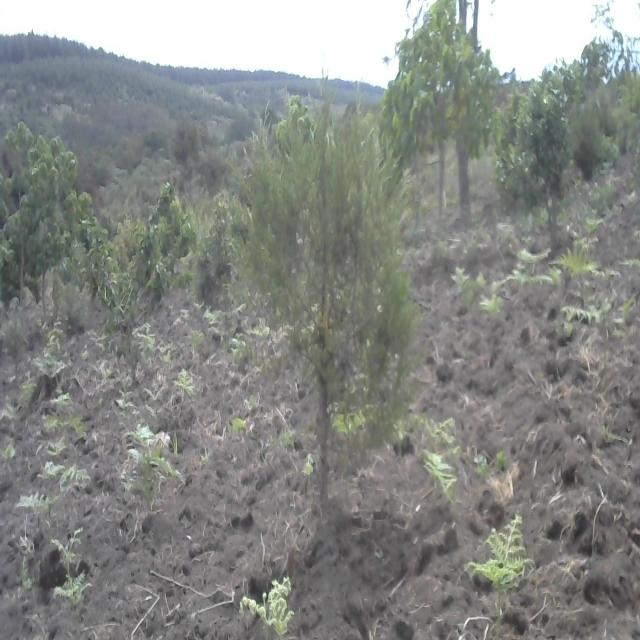Croton machrostychus: (382, 3, 501, 220), (1, 117, 84, 315)
Juniperus procesera: (250, 82, 419, 504)
